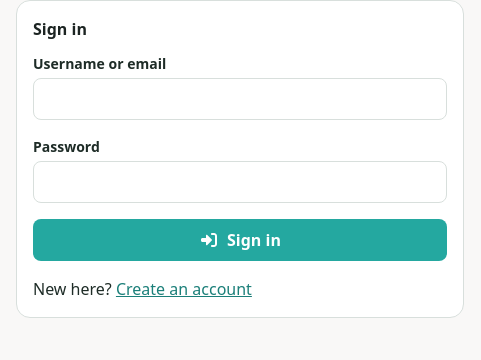
Test case: SignInPage › shows the grant error on bad credentials
The image size is (481, 360).
Step 1. Type "alice" into the field labelled "Username or email" → [240, 99], box left=33, top=78, right=447, bottom=120
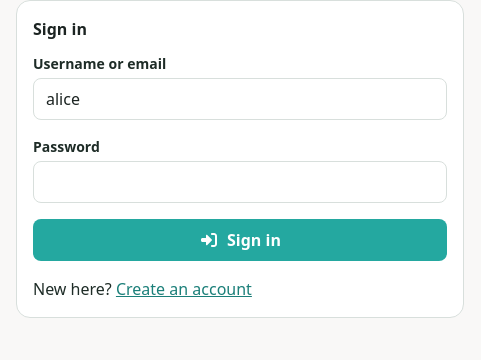
Step 2. Type "secret" into the password field labelled "Password" → [240, 182], box left=33, top=161, right=447, bottom=203
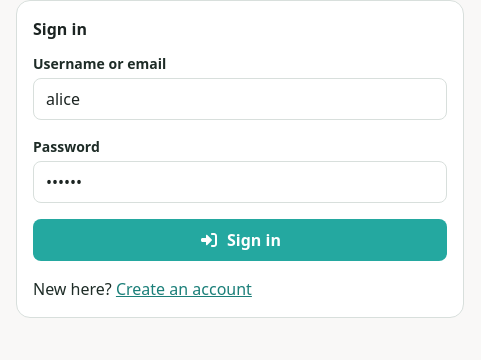
Step 3. Submit the form with class "signin__form", box left=33, top=53, right=447, bottom=301
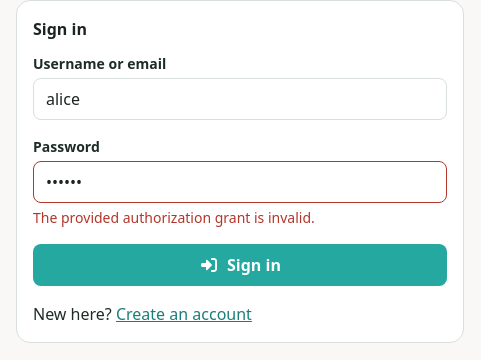
Result: the text "authorization grant is invalid" is shown at left=33, top=208, right=315, bottom=227
